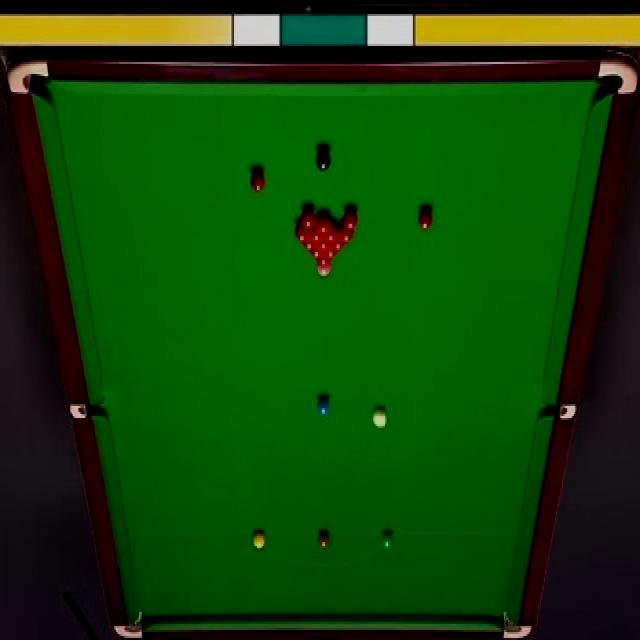black-ball: (314, 149, 330, 173)
blue-ball: (316, 398, 331, 415)
brown-ball: (318, 529, 330, 550)
green-ball: (380, 530, 395, 552)
pink-ball: (317, 262, 332, 276)
red-ball: (298, 207, 316, 230), (418, 204, 432, 230), (342, 208, 358, 230), (249, 170, 264, 193), (316, 213, 331, 235), (337, 222, 352, 244), (295, 221, 308, 243), (325, 221, 338, 242), (304, 239, 315, 251), (318, 238, 329, 250), (318, 253, 328, 265)
white-ball: (373, 404, 386, 427)
yellow-ball: (253, 530, 265, 550)
